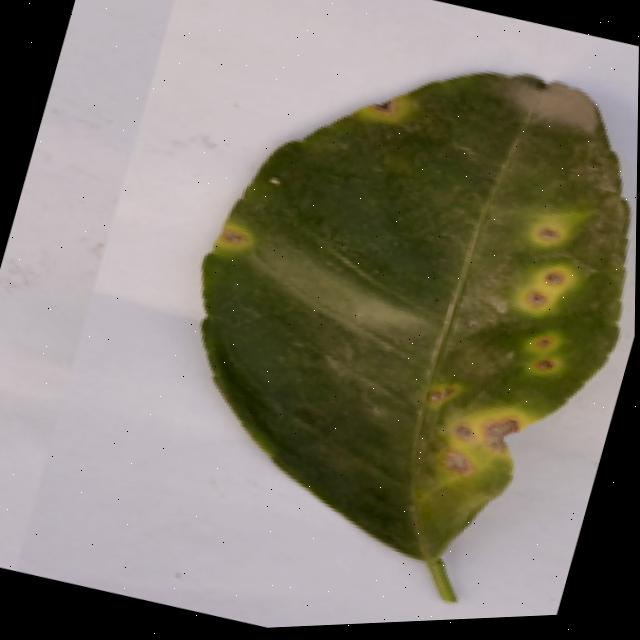canker: (204, 73, 629, 598), (414, 193, 624, 542), (348, 80, 423, 144), (201, 213, 255, 263)
